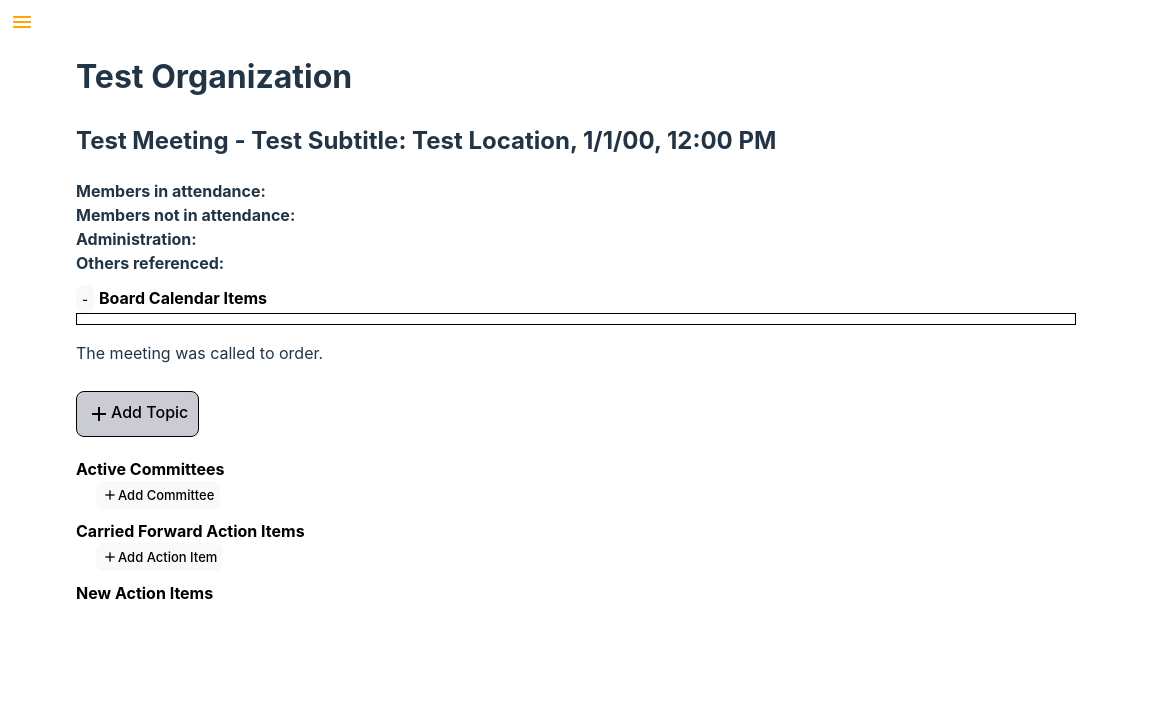
metadata › allows editing the meeting subtitle
Hover over the heading that starts with "Test Meeting" at (426, 140), box top-left (76, 126), bottom-right (776, 155)
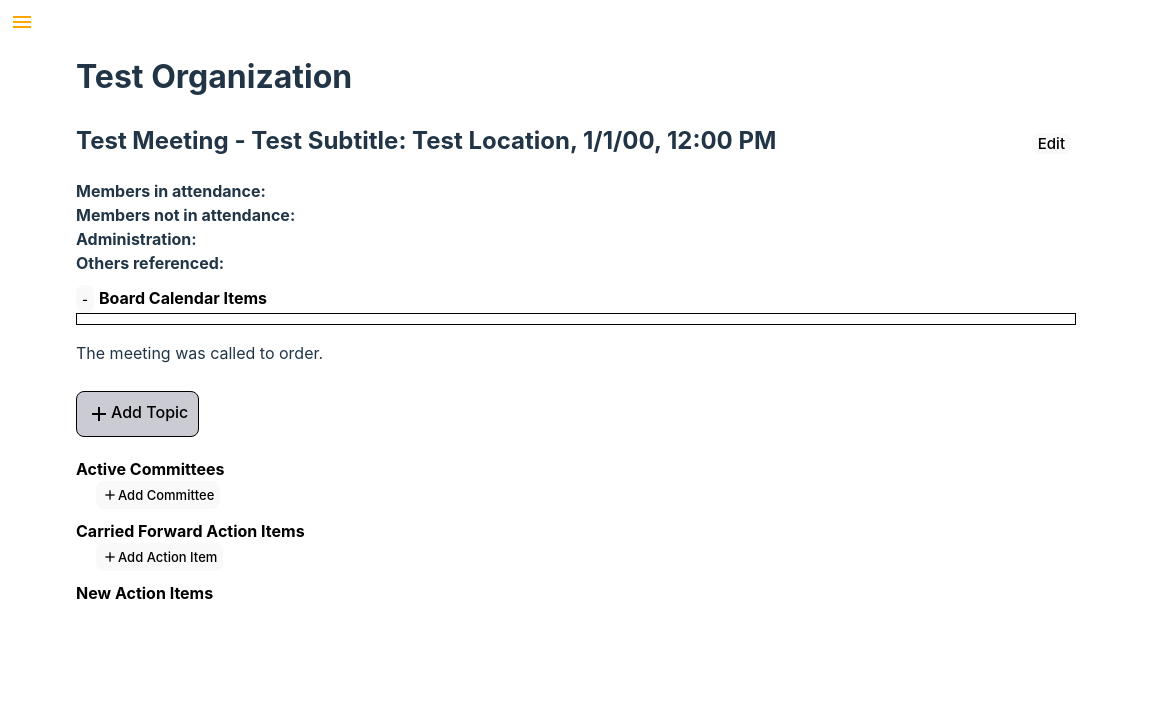
Click the button "Edit". click: (1051, 143)
box: top-left (1032, 133), bottom-right (1071, 154)
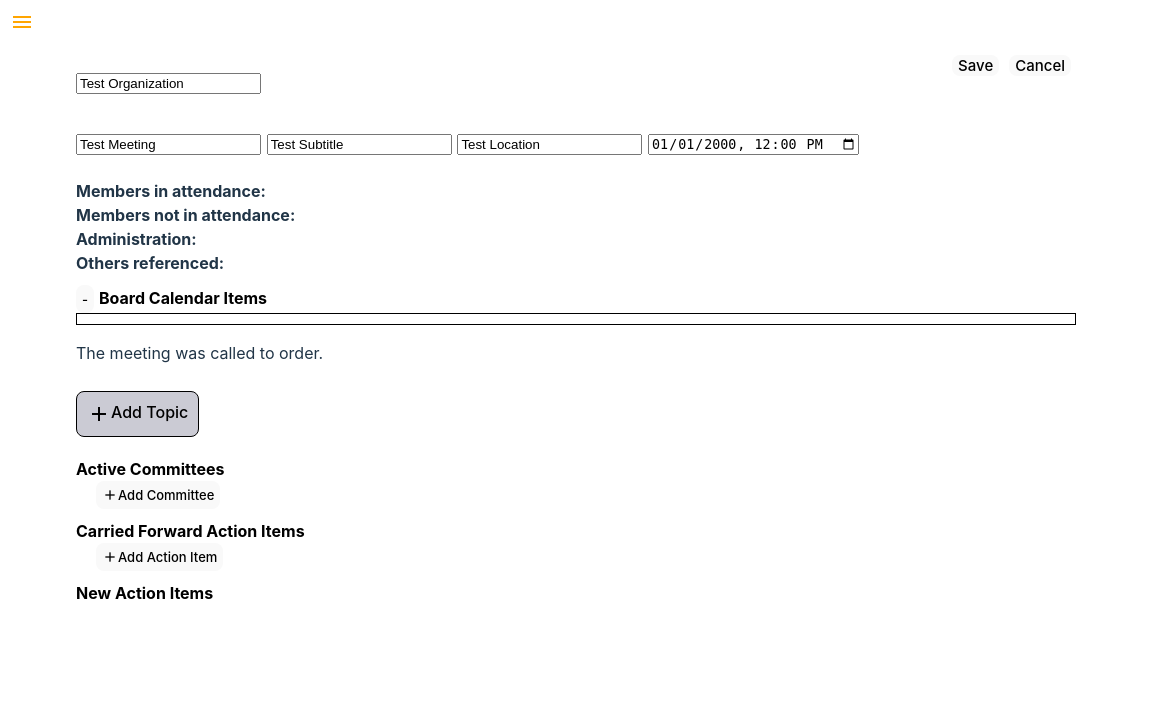
Replace the text in the field named "Subtitle" with "New Meeting Subtitle". click: (359, 144)
box: top-left (267, 134), bottom-right (452, 155)
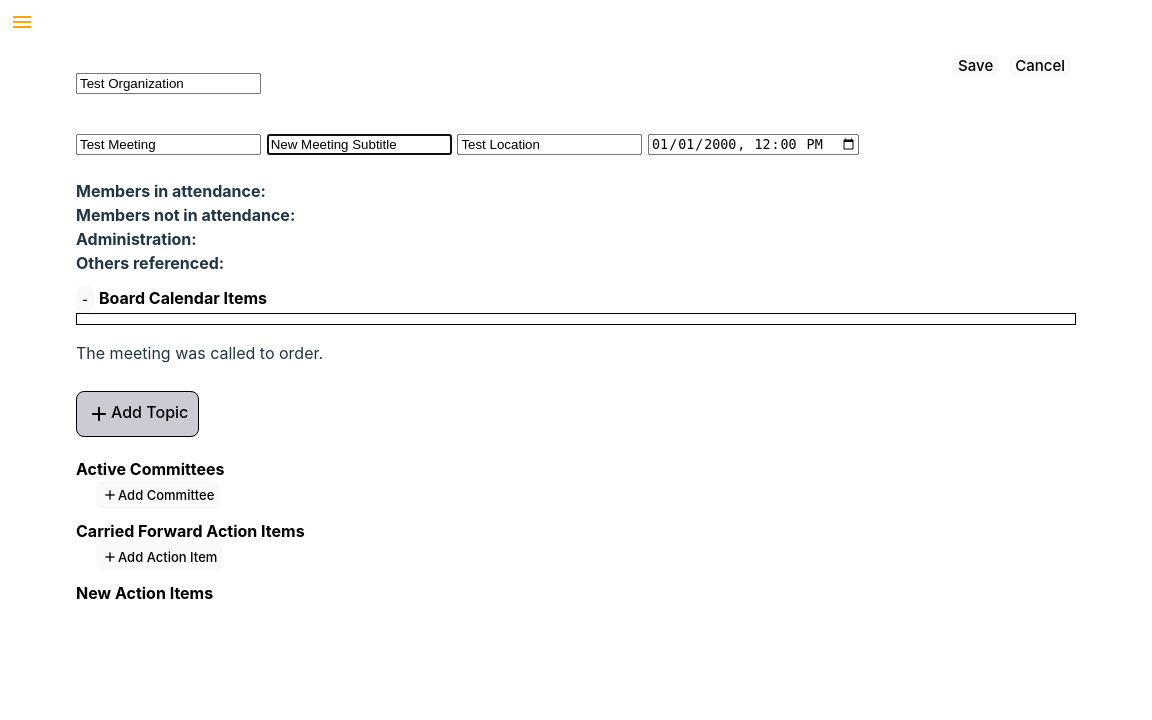
Click the button "Save". click: (976, 66)
box: top-left (952, 55), bottom-right (999, 76)
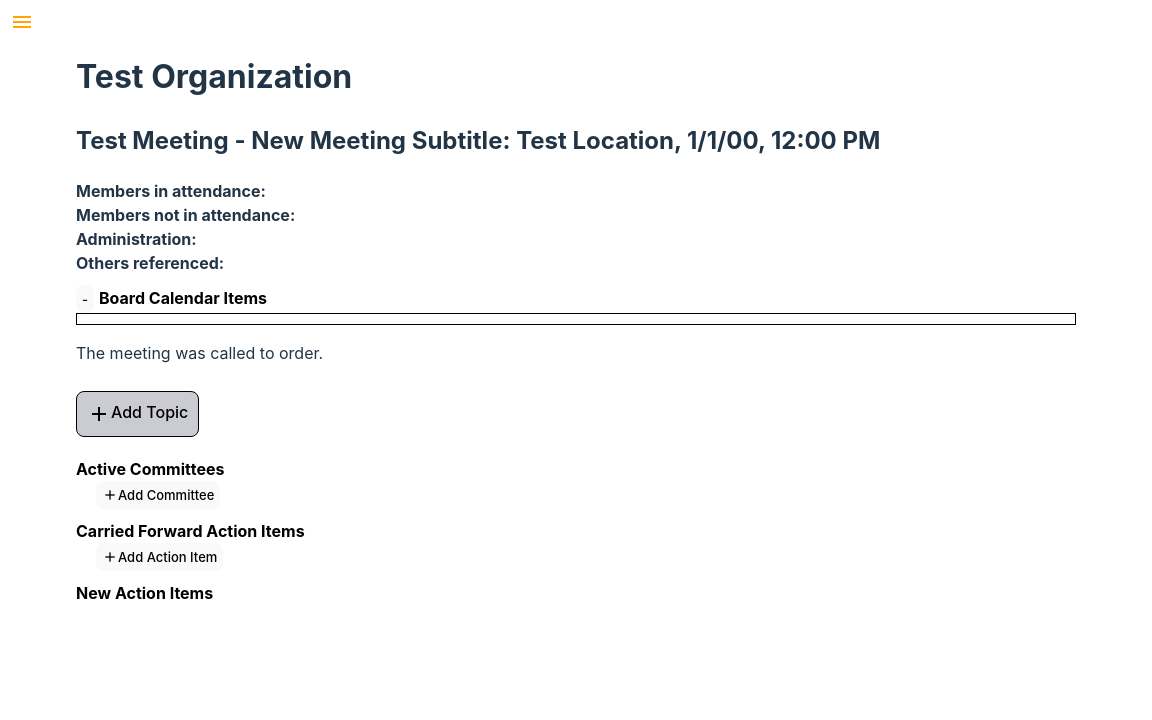
Now the heading that starts with "Test Meeting" reads "Test Meeting - New Meeting Subtitle: Test Location, 1/1/00, 12:00 PM", box top-left (76, 126), bottom-right (880, 155)
